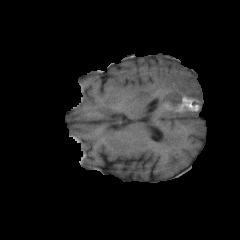glioma: (111, 64, 202, 144)
